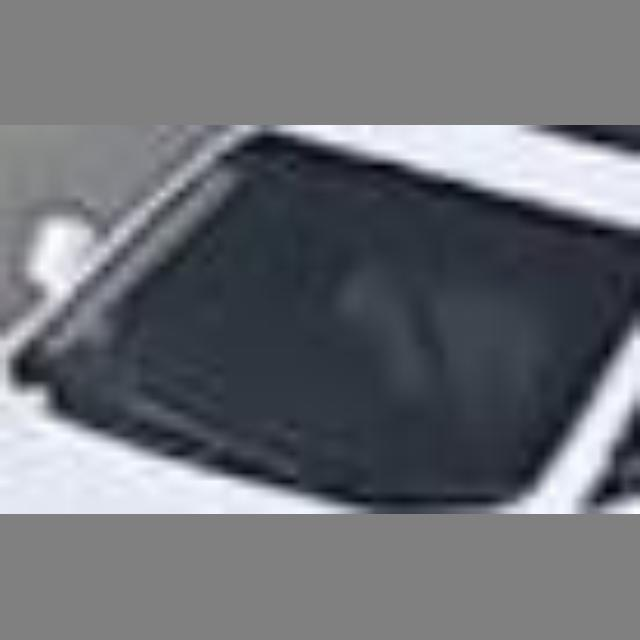pakai: (297, 199, 547, 468)
